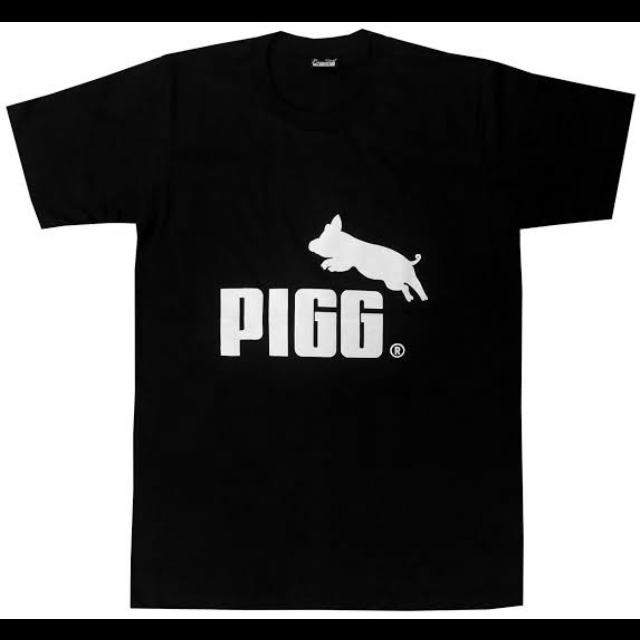PUMA_fake: (196, 195, 448, 395)
